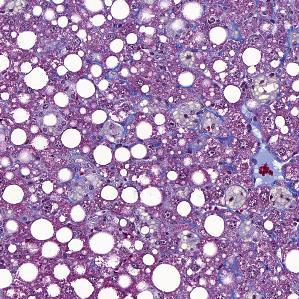fibrosis: (224, 146, 292, 196)
